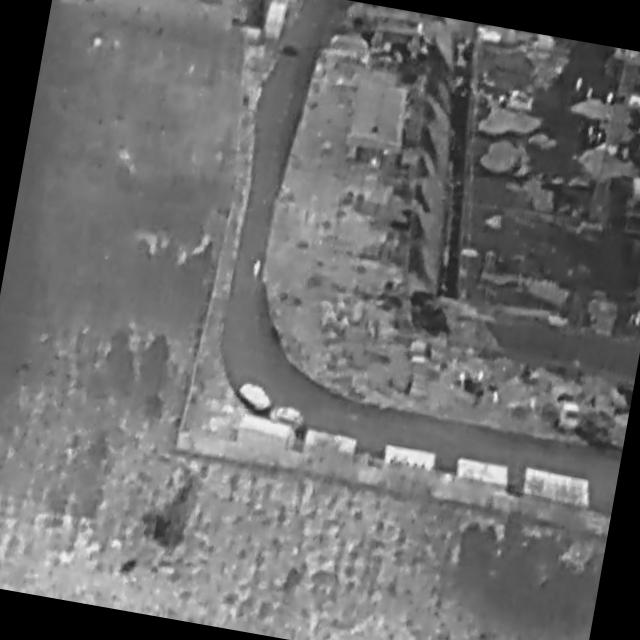person: (250, 255, 264, 284), (575, 73, 586, 93), (585, 82, 596, 101), (605, 89, 616, 106)
